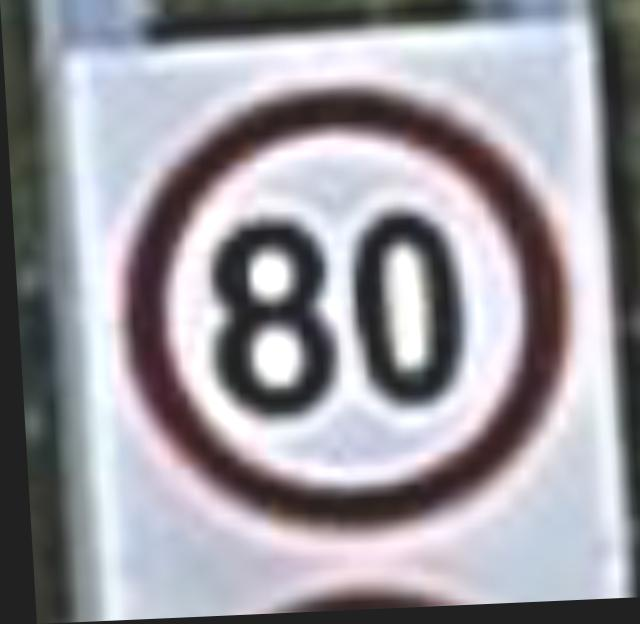limit80: (108, 59, 586, 554)
